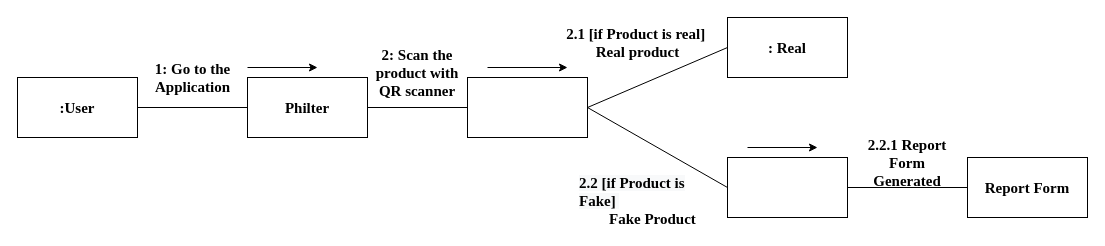
Some shapes in this 1105 by 246 pixel diagram are drawn without their labels. Each missing label, with the centre of its shape:
: Fake: the point at 787,187
QR Scanner: the point at 527,107
